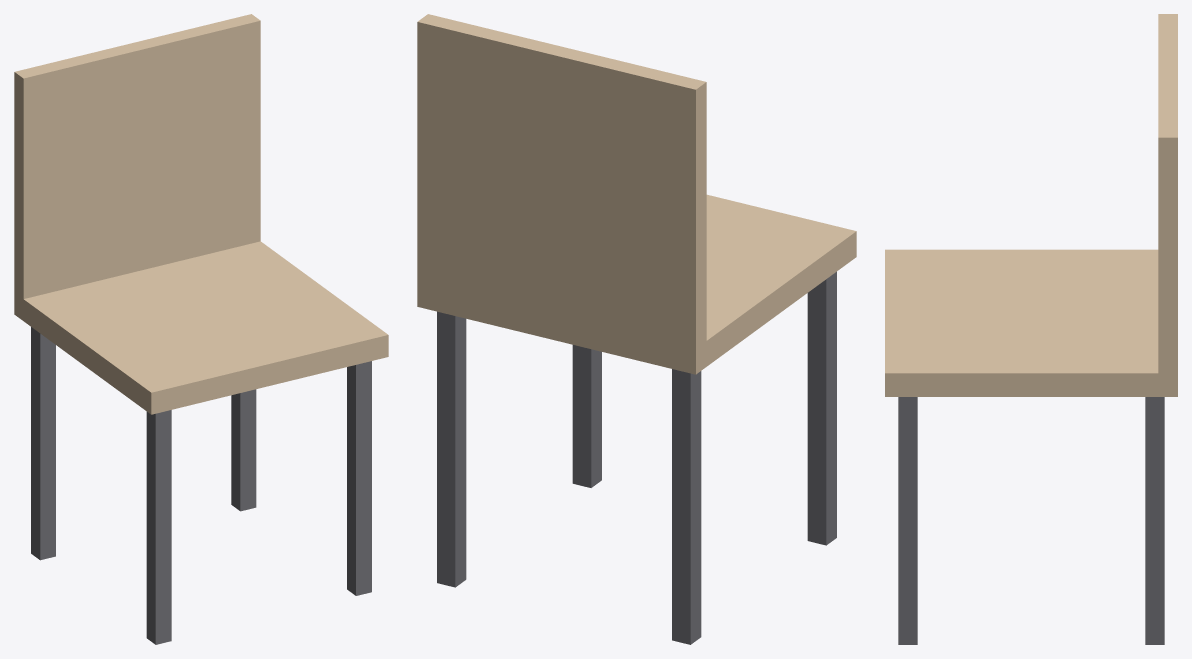
Rendered from paya-chair.glb.
The picture shows the model from 3 angles, left to right: view 1: azimuth 30°, elevation 25°; view 2: azimuth 150°, elevation 25°; view 3: azimuth 270°, elevation 25°; orthographic projection. The views are drawn at different scales.
Visible parts, largest first — view 1: ChairNode; view 2: ChairNode; view 3: ChairNode.
Part boxes in pixels (x1,y1,x2,y2): ChairNode: (14,14,388,644); ChairNode: (417,14,856,644); ChairNode: (885,14,1177,644).
Bounding box in the file's own units: 0.45 × 0.87 × 0.45.
